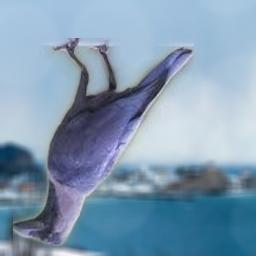Crow: (13, 38, 194, 246)
